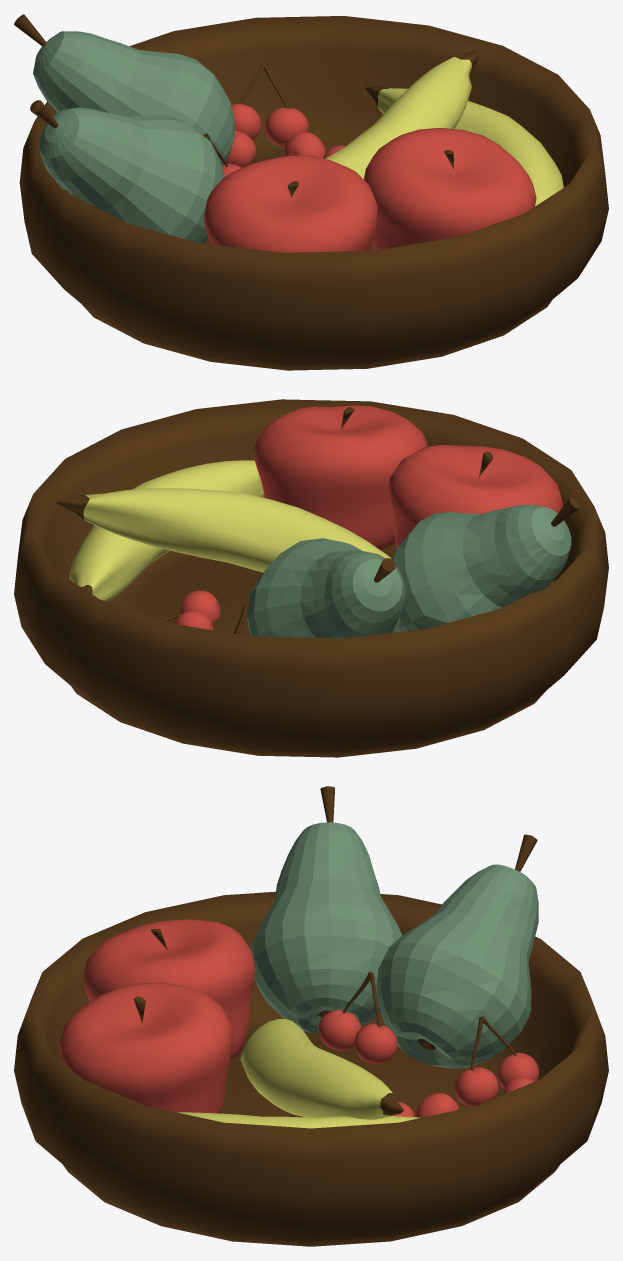
Rendered from BowlOfFruit.fbx.
3 views of the same model, one above another, from view 1: azimuth 30°, elevation 25°; view 2: azimuth 150°, elevation 25°; view 3: azimuth 270°, elevation 25° (orthographic).
Parts seen in each view (by area): view 1: pSphere1, pSphere5, pSphere10, pSphere3, pSphere9, pSphere4, pSphere11, pSphere12, pSphere13, pSphere8; view 2: pSphere1, pSphere5, pSphere10, pSphere4, pSphere9, pSphere3, pSphere11, pSphere13; view 3: pSphere1, pSphere9, pSphere5, pSphere10, pSphere3, pSphere4, pSphere14, pSphere8, pSphere11, pSphere13.
Boxes of the visible parts, <box> form: pSphere1: <box>19,16,608,370</box>; pSphere5: <box>30,100,224,243</box>; pSphere10: <box>363,128,536,250</box>; pSphere3: <box>204,155,377,252</box>; pSphere9: <box>14,14,234,164</box>; pSphere4: <box>325,50,478,178</box>; pSphere11: <box>365,85,563,206</box>; pSphere12: <box>231,63,308,147</box>; pSphere13: <box>284,131,345,158</box>; pSphere8: <box>222,130,256,167</box>; pSphere1: <box>14,399,608,757</box>; pSphere5: <box>391,496,581,631</box>; pSphere10: <box>254,405,427,550</box>; pSphere4: <box>56,488,391,572</box>; pSphere9: <box>247,538,405,638</box>; pSphere3: <box>388,444,563,549</box>; pSphere11: <box>69,460,264,601</box>; pSphere13: <box>162,590,220,630</box>; pSphere1: <box>14,891,608,1246</box>; pSphere9: <box>377,834,538,1068</box>; pSphere5: <box>250,786,402,1034</box>; pSphere10: <box>59,982,232,1113</box>; pSphere3: <box>83,919,255,1060</box>; pSphere4: <box>240,1019,404,1119</box>; pSphere14: <box>318,972,397,1064</box>; pSphere8: <box>455,1016,538,1106</box>; pSphere11: <box>177,1112,420,1128</box>; pSphere13: <box>391,1093,459,1117</box>.
Size of the model in its own units: 10.33 by 4.13 by 9.98.
